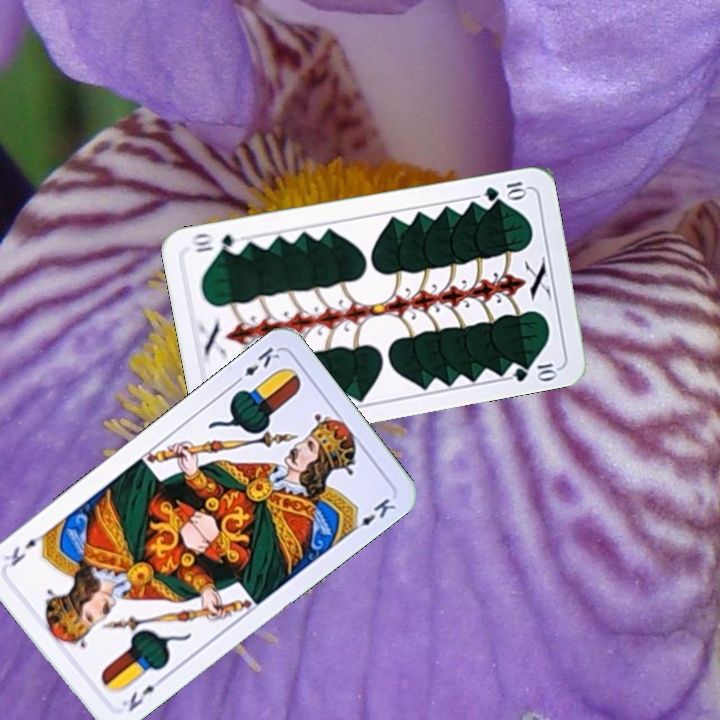EK: (229, 342, 283, 388), (117, 673, 167, 715)
G10: (480, 177, 529, 204)
